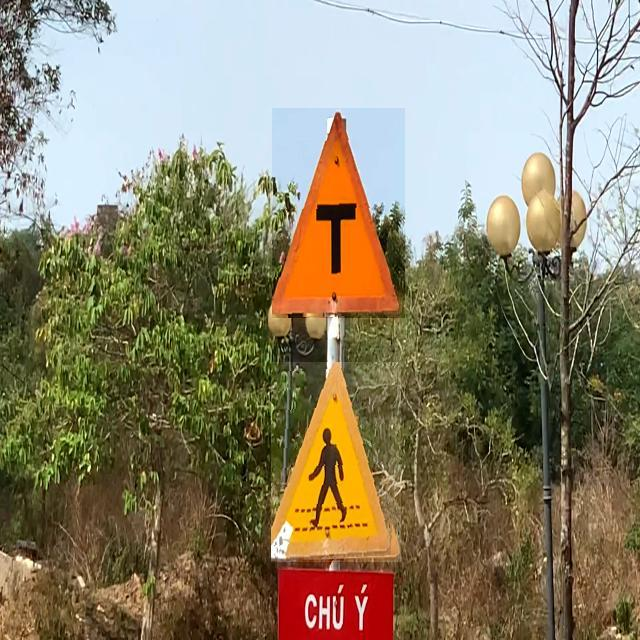W-205b: (272, 108, 405, 318)
W-224: (271, 362, 401, 562)
